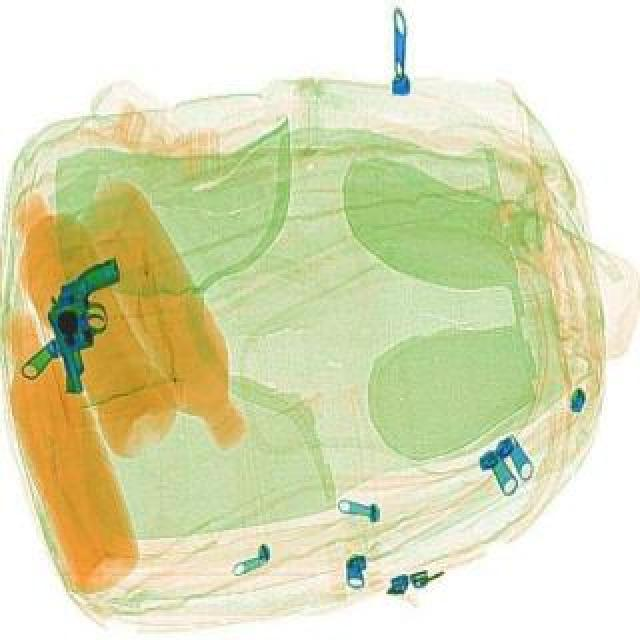gun: (38, 256, 142, 396)
